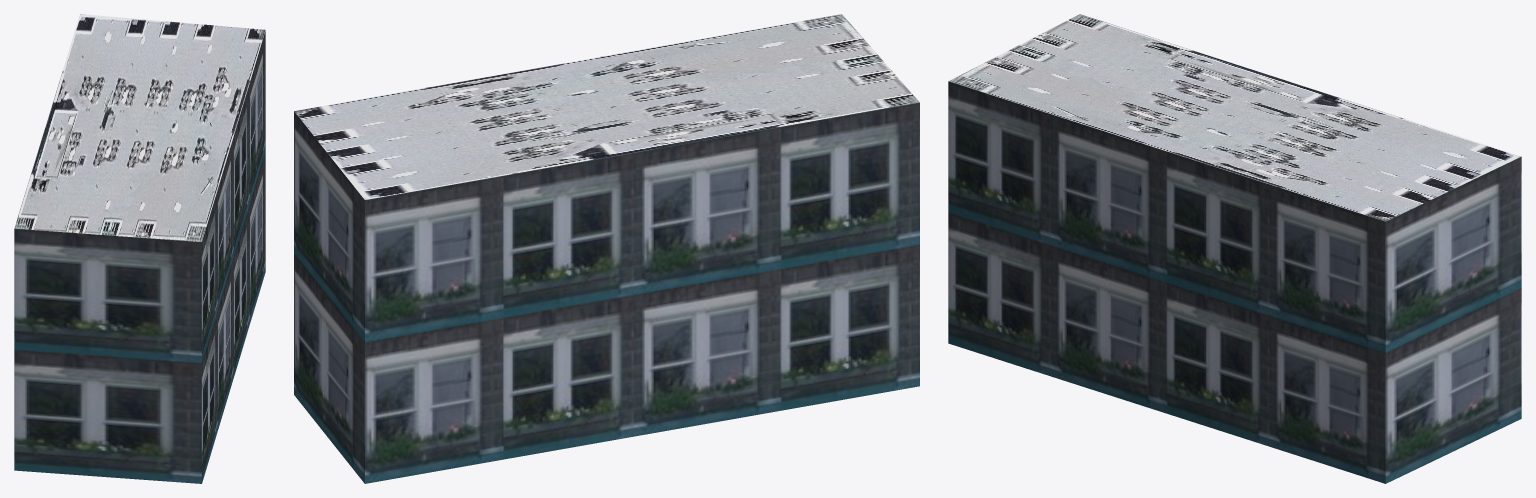
Rendered from ResTex__4007.fbx.
The picture shows the model from 3 angles, left to right: view 1: azimuth 30°, elevation 25°; view 2: azimuth 150°, elevation 25°; view 3: azimuth 270°, elevation 25°; orthographic projection. The views are drawn at different scales.
Visible parts, largest first — view 1: CityEngineMaterial_11_m, CityEngineMaterial_4_m; view 2: CityEngineMaterial_11_m, CityEngineMaterial_4_m; view 3: CityEngineMaterial_11_m, CityEngineMaterial_4_m.
Boxes of the visible parts, left/top/right/bottom form: CityEngineMaterial_11_m: left=14, top=31, right=265, bottom=483; CityEngineMaterial_4_m: left=14, top=14, right=265, bottom=241; CityEngineMaterial_11_m: left=294, top=102, right=919, bottom=483; CityEngineMaterial_4_m: left=294, top=14, right=919, bottom=199; CityEngineMaterial_11_m: left=948, top=81, right=1521, bottom=483; CityEngineMaterial_4_m: left=949, top=14, right=1520, bottom=221.
Bounding box in the file's own units: 10.19 × 6 × 11.88.
Materials: 2 (2 with a texture image).
